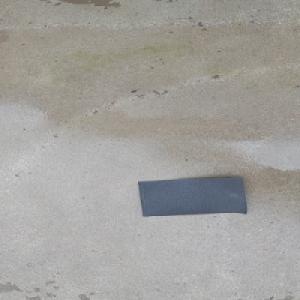PaintChip: (138, 177, 249, 217)
